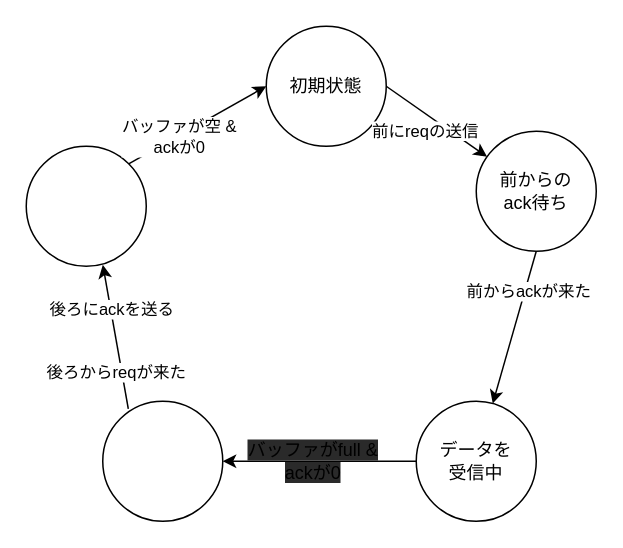
The diagram is 623 pixels wide and 548 high, and some of its shapes have lost their labels. The shapes that lost their labels are listed below. From the top down, each one's box as (x1, y1, x2, y2) in pixels, then its label:
(25, 145, 146, 266): データを 送信中
(101, 400, 223, 521): 後ろからの req待ち
